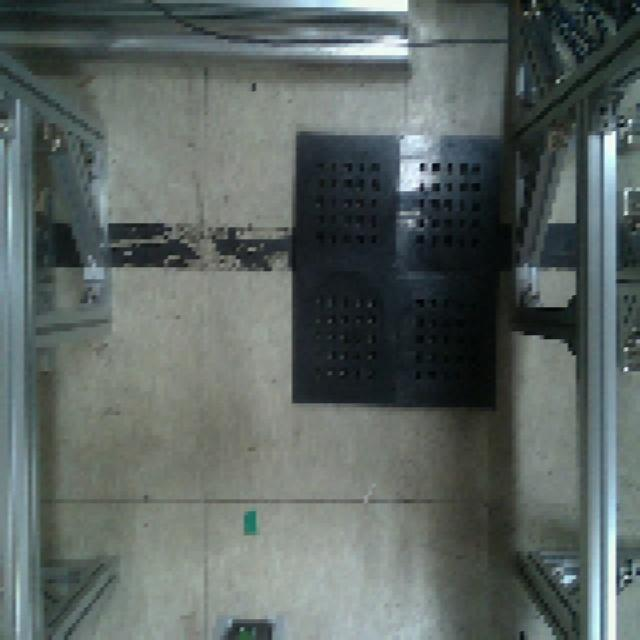pallet: (288, 138, 522, 416)
